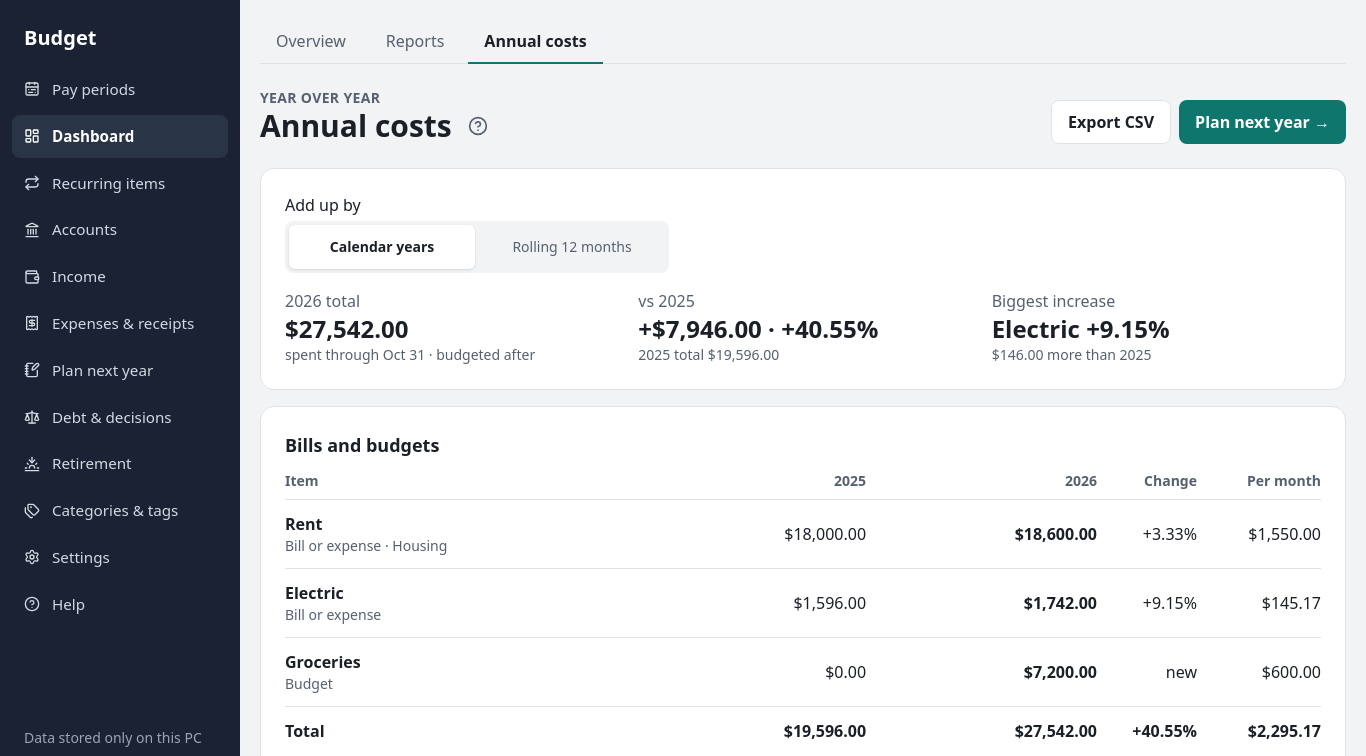
it: Annual costs › switches to rolling twelve months and asks for them
The image size is (1366, 756).
Click the radio button labelled "Rolling 12 months": [572, 246] box [512,237,632,256]
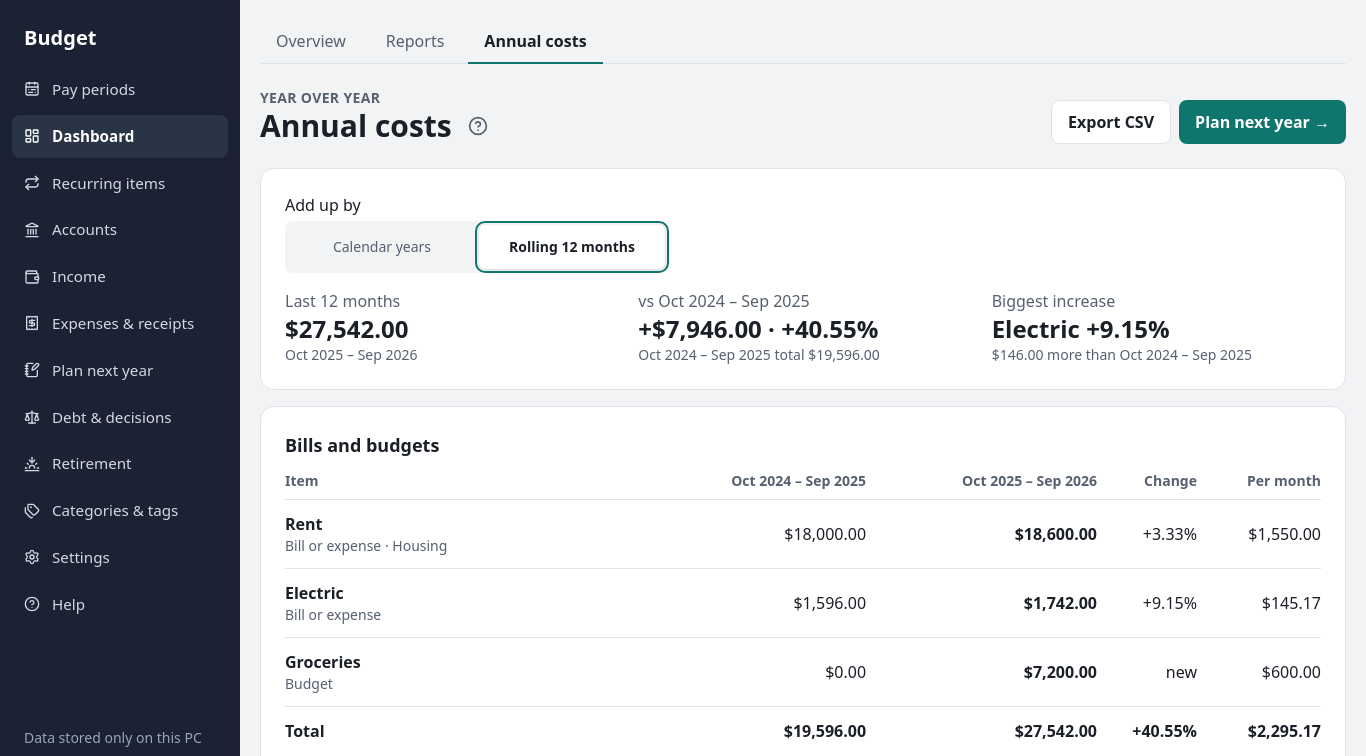
Result: the text "vs Oct 2024 – Sep 2025" is shown at [638,290,810,312]
